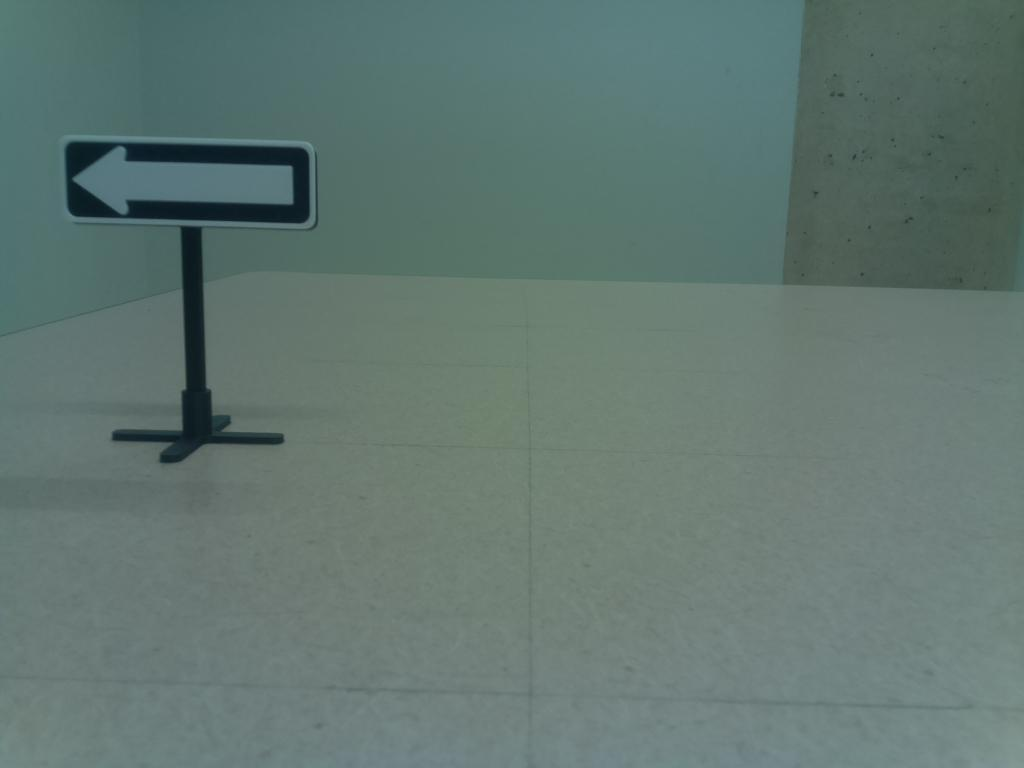sign_oneway_left: (54, 128, 327, 238)
